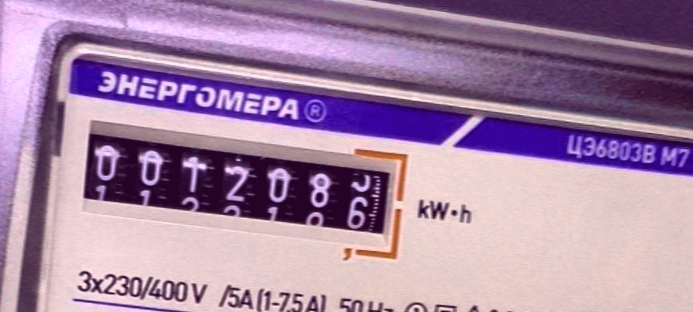0: (133, 146, 164, 190), (90, 140, 118, 184), (263, 165, 289, 206)
1: (177, 152, 203, 195)
2: (220, 163, 248, 204)
6: (340, 193, 367, 231)
8: (305, 169, 330, 211)
screen: (68, 107, 417, 274)
